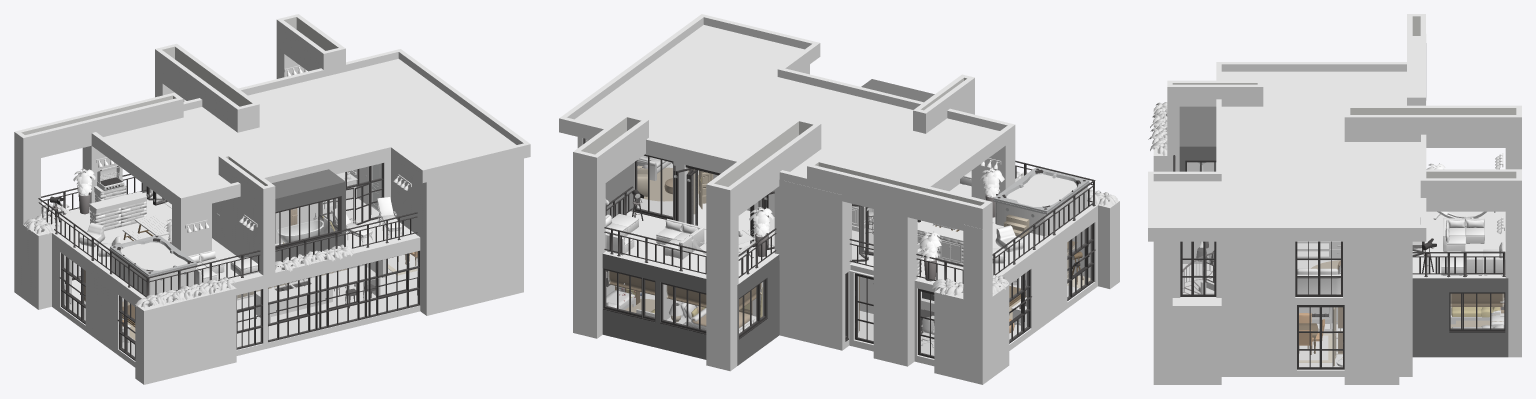
The model's file is penthouse.glb.
3 views of the same model, side by side, from view 1: azimuth 30°, elevation 25°; view 2: azimuth 150°, elevation 25°; view 3: azimuth 270°, elevation 25° (orthographic). The views are drawn at different scales.
Visible parts, largest first — view 1: Object_14, Object_29, Object_44, Object_55, Object_92, Object_89, Object_24, Object_91, Object_96, Object_7, Object_90, Object_63 (+16 smaller); view 2: Object_14, Object_29, Object_44, Object_55, Object_92, Object_63, Object_89, Object_24, Object_91, Object_7, Object_39, Object_112 (+14 smaller); view 3: Object_14, Object_29, Object_92, Object_55, Object_24, Object_63, Object_44, Object_91, Object_89, Object_112, Object_7, Object_62 (+12 smaller).
Boxes of the visible parts, x1,y1,x2,y2 form: Object_14: (14,20,523,384); Object_29: (103,59,515,195); Object_44: (38,163,419,360); Object_55: (63,163,418,357); Object_92: (52,160,420,367); Object_89: (52,193,418,356); Object_24: (14,14,530,198); Object_91: (91,133,530,210); Object_96: (24,203,353,307); Object_7: (21,17,338,185); Object_90: (122,214,380,304); Object_63: (275,182,345,261); Object_14: (567,17,1119,384); Object_29: (575,25,999,185); Object_44: (583,138,1095,358); Object_55: (585,139,1091,355); Object_92: (588,139,1097,366); Object_63: (602,254,779,365); Object_89: (604,163,1095,355); Object_24: (559,14,1014,303); Object_91: (559,43,1015,189); Object_7: (581,77,984,205); Object_39: (606,166,1074,319); Object_112: (605,155,1025,285); Object_14: (1153,43,1521,384); Object_29: (1153,71,1420,225); Object_92: (1172,241,1412,376); Object_55: (1183,162,1503,367); Object_24: (1148,14,1521,227); Object_63: (1179,146,1508,357); Object_44: (1173,155,1505,369); Object_91: (1148,228,1426,241); Object_89: (1182,211,1505,366); Object_112: (1297,220,1502,294); Object_7: (1172,16,1516,178); Object_62: (1179,106,1216,146).
Bounding box in the file's own units: 17.68 × 7.15 × 13.72.
